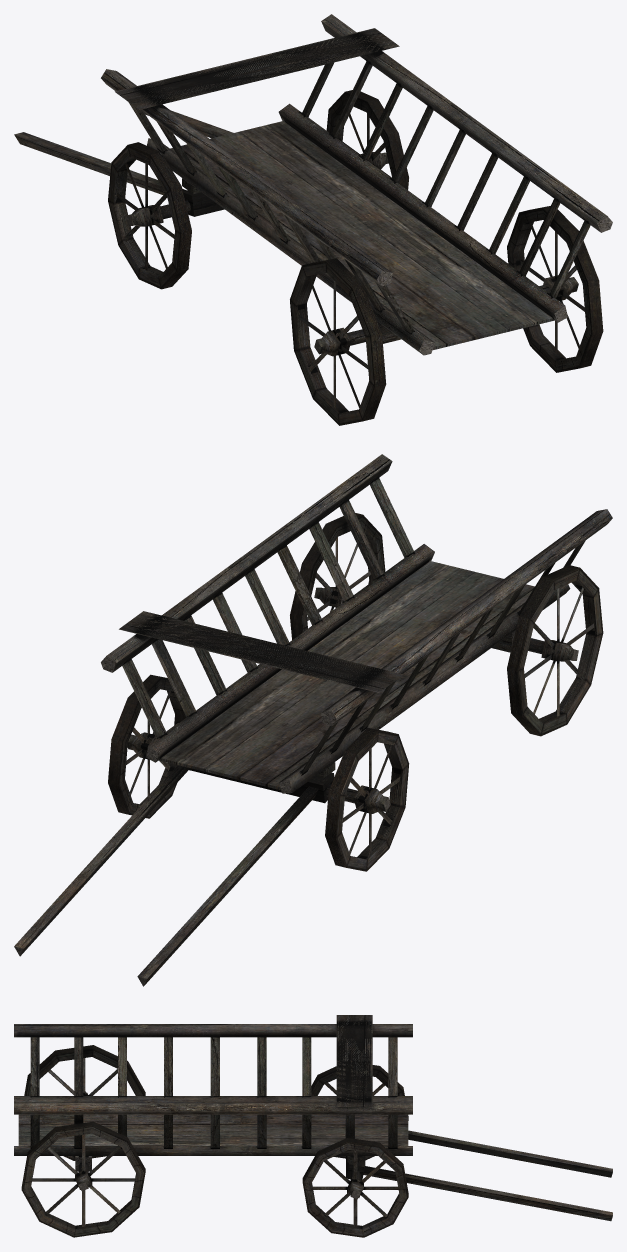
The model's file is Wagon1_LOD1.fbx.
The picture shows the model from 3 angles, top to bottom: view 1: azimuth 30°, elevation 25°; view 2: azimuth 150°, elevation 25°; view 3: azimuth 270°, elevation 25°; orthographic projection. The views are drawn at different scales.
Visible parts, largest first — view 1: Strag3:polySurface60; view 2: Strag3:polySurface60; view 3: Strag3:polySurface60.
Boxes of the visible parts, x1,y1,x2,y2 form: Strag3:polySurface60: (14, 14, 612, 425); Strag3:polySurface60: (14, 454, 612, 986); Strag3:polySurface60: (14, 1015, 612, 1237).
Size of the model in its own units: 10.67 by 7.43 by 29.3.
